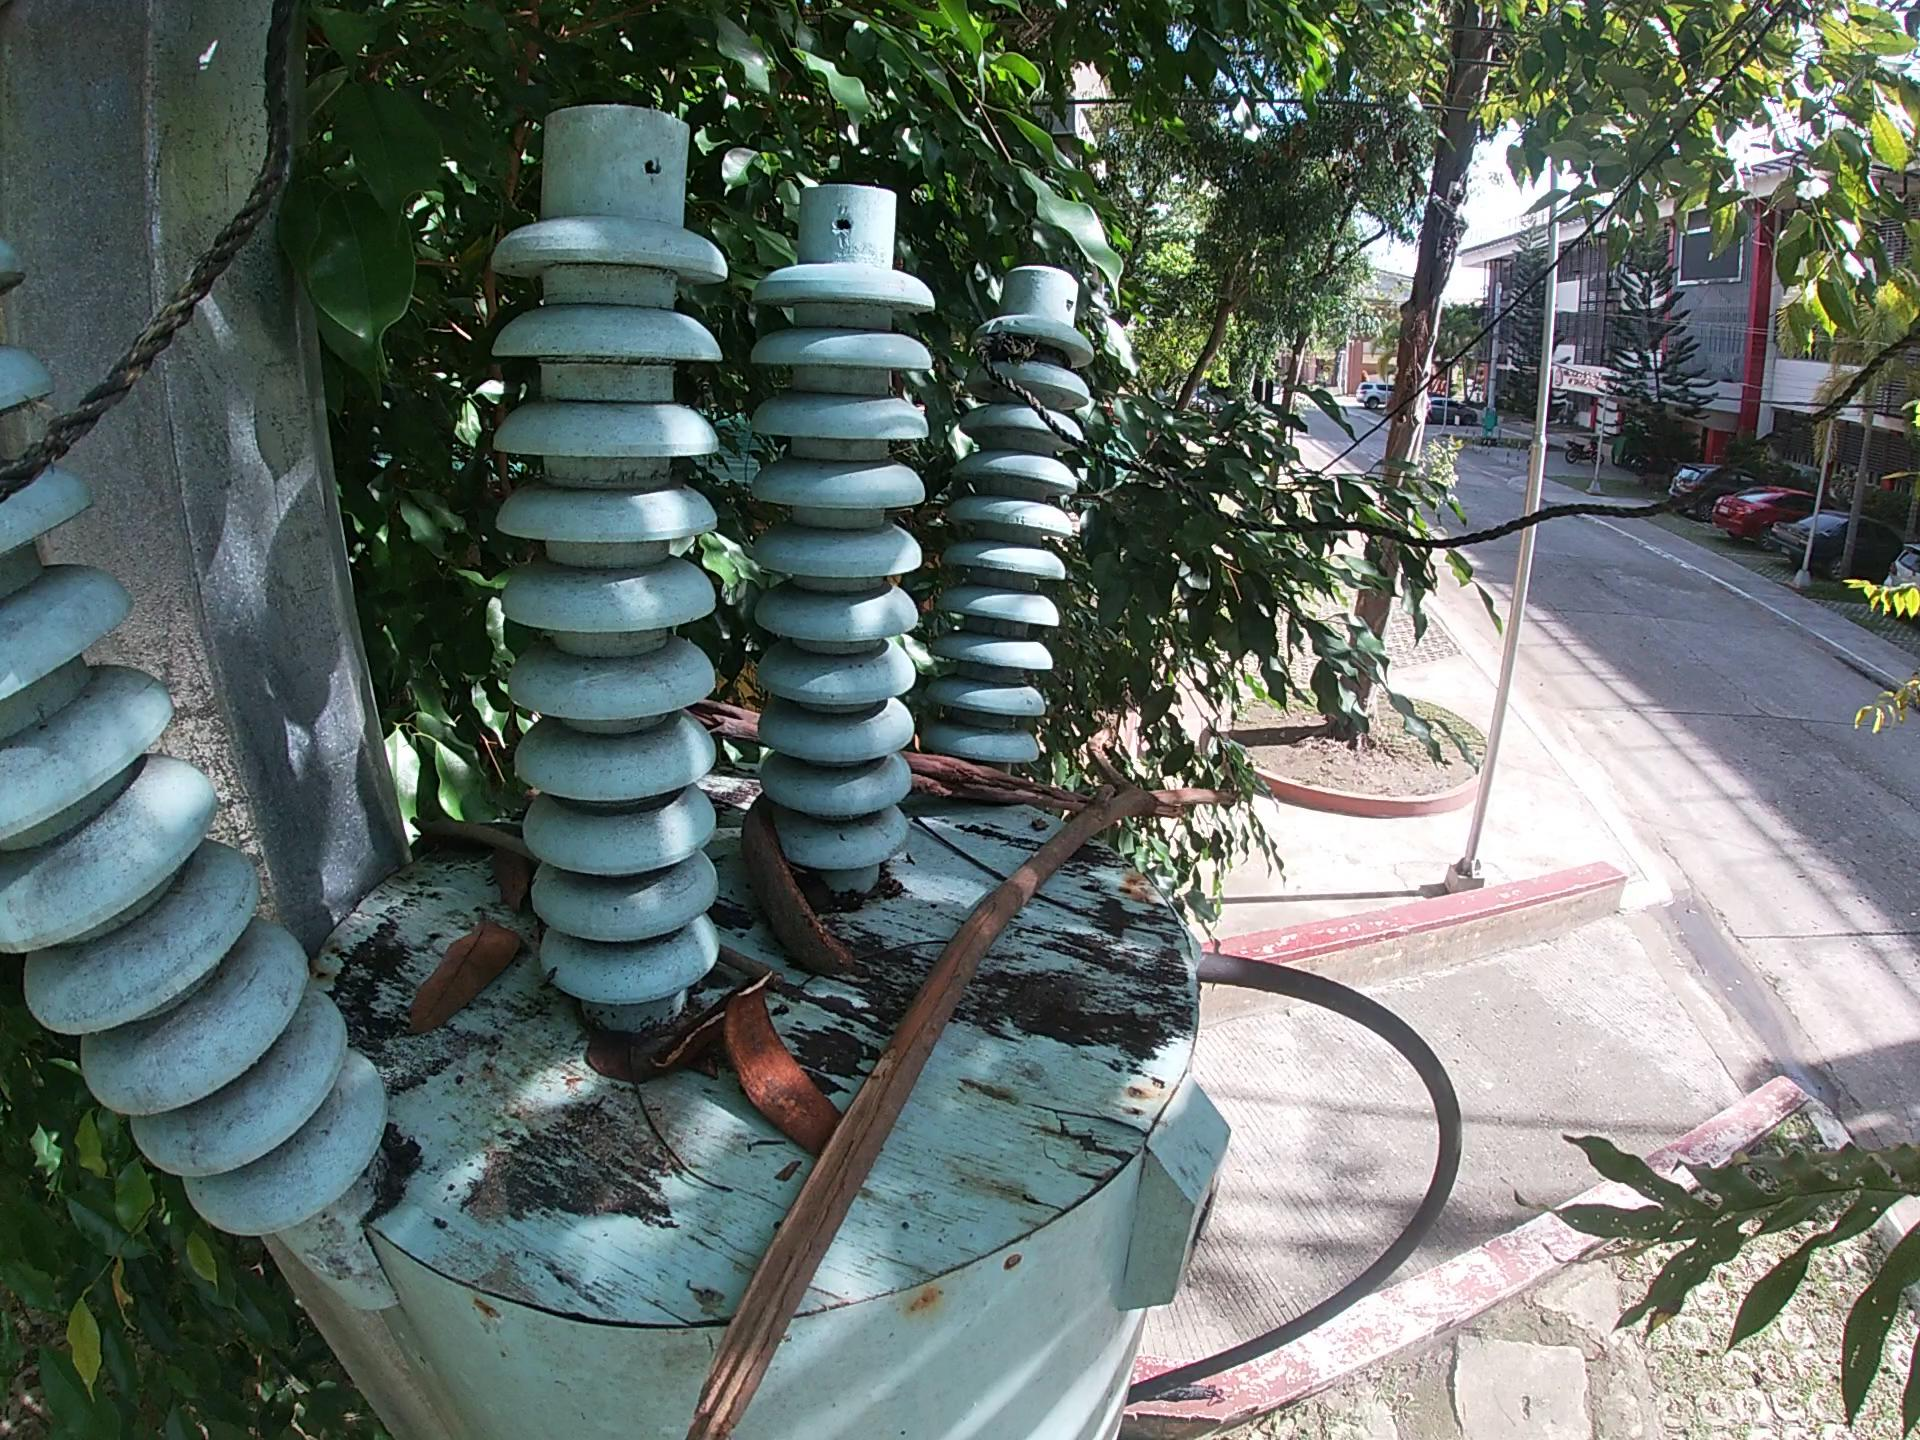leaf: (404, 909, 516, 1023), (571, 1036, 664, 1086), (497, 852, 528, 914)
mahogany fruit: (730, 790, 881, 985), (732, 979, 831, 1157)
tree branch: (671, 725, 1259, 1432), (655, 971, 777, 1078), (907, 756, 1082, 827), (627, 1092, 744, 1192), (909, 812, 1007, 889), (408, 815, 535, 859), (718, 945, 810, 989), (688, 700, 757, 746), (1039, 889, 1119, 926)
